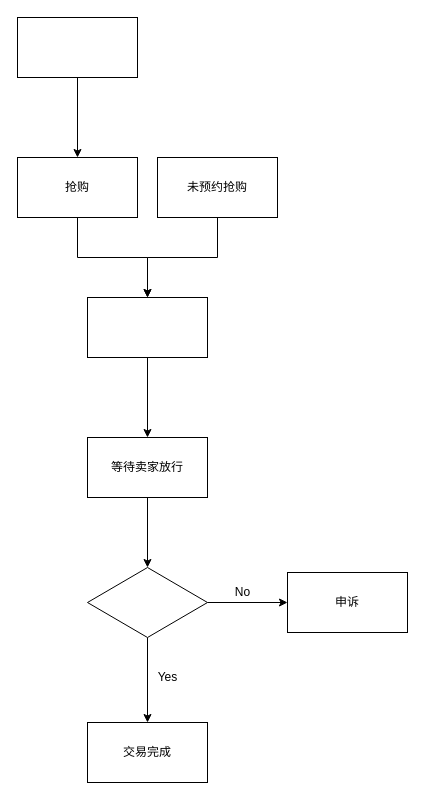
Some shapes in this 425 by 800 pixel diagram are drawn without their labels. The shapes that lost their labels are listed below. From the top down, each one's centre as x and y in pixels, then its label:
At [77,47]: "预约".
At [147,327]: "支付".
At [147,602]: "卖家放行".
